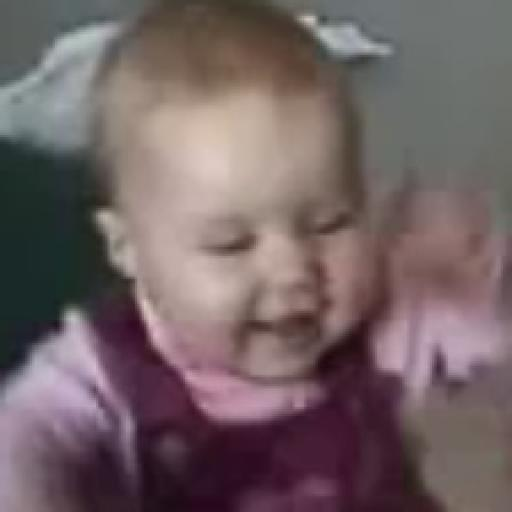Autism: (80, 0, 402, 405)
